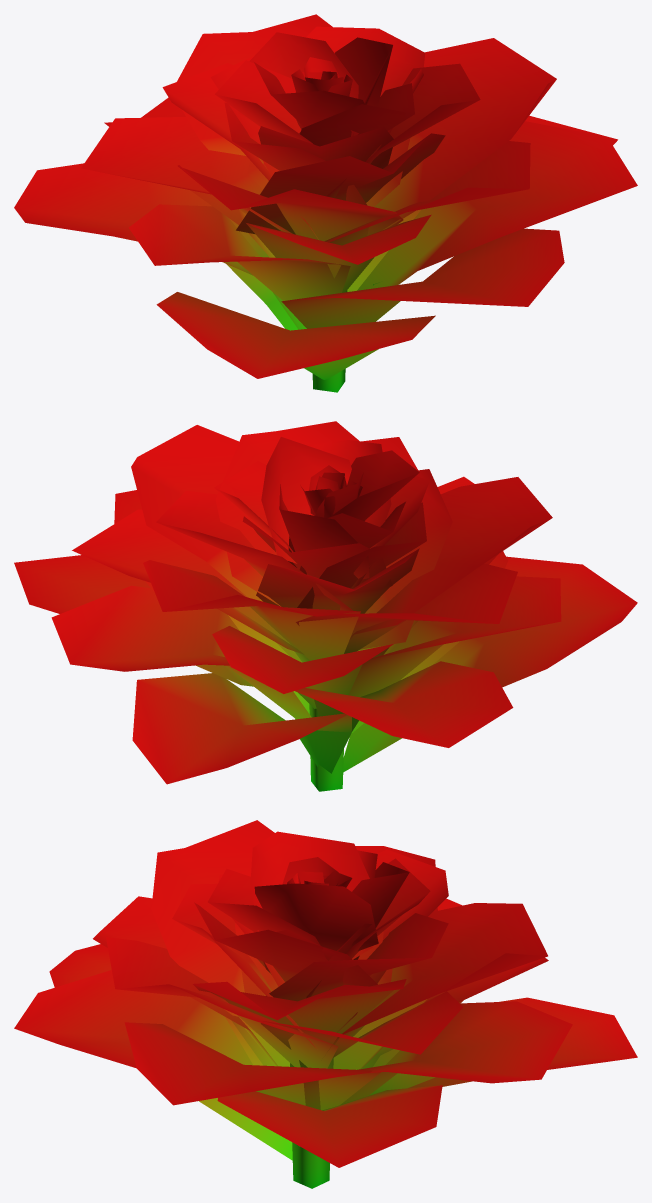
Rendered from Purple Ornamental Kale_LOD4_Var3_ugdieawja.fbx.
3 renders of one model, top to bottom at view 1: azimuth 30°, elevation 25°; view 2: azimuth 150°, elevation 25°; view 3: azimuth 270°, elevation 25°, orthographic. The views are drawn at different scales.
Parts seen in each view (by area): view 1: _a674_Var3_LOD4; view 2: _a674_Var3_LOD4; view 3: _a674_Var3_LOD4.
Boxes of the visible parts, x1,y1,x2,y2 form: _a674_Var3_LOD4: [14, 14, 637, 392]; _a674_Var3_LOD4: [14, 421, 637, 791]; _a674_Var3_LOD4: [14, 820, 637, 1188].
Size of the model in its own units: 52.77 by 30.57 by 53.35.
